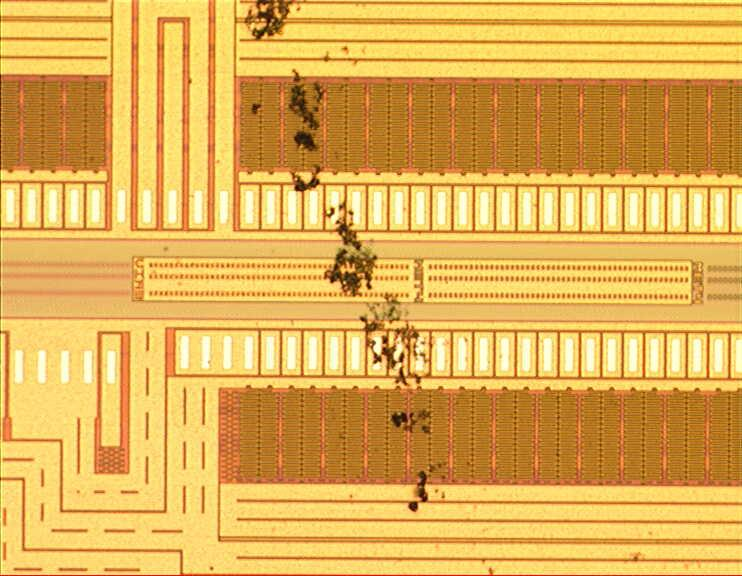PO CONTAMINATION: (235, 1, 459, 518)
